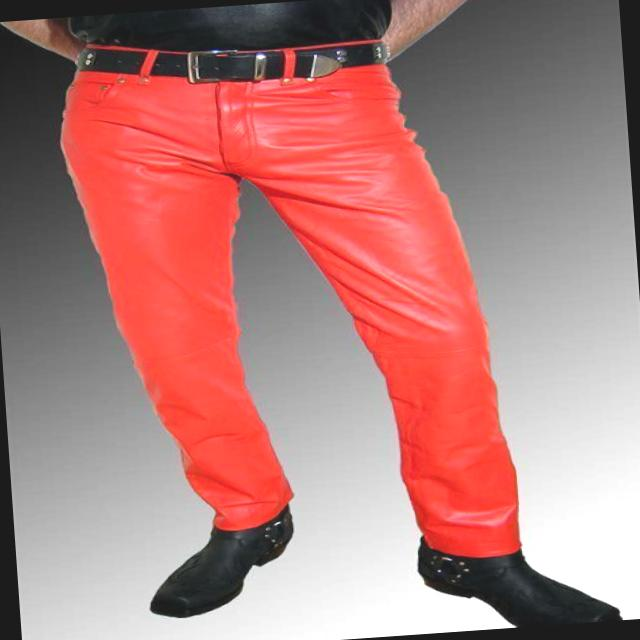pants: (55, 15, 521, 584)
